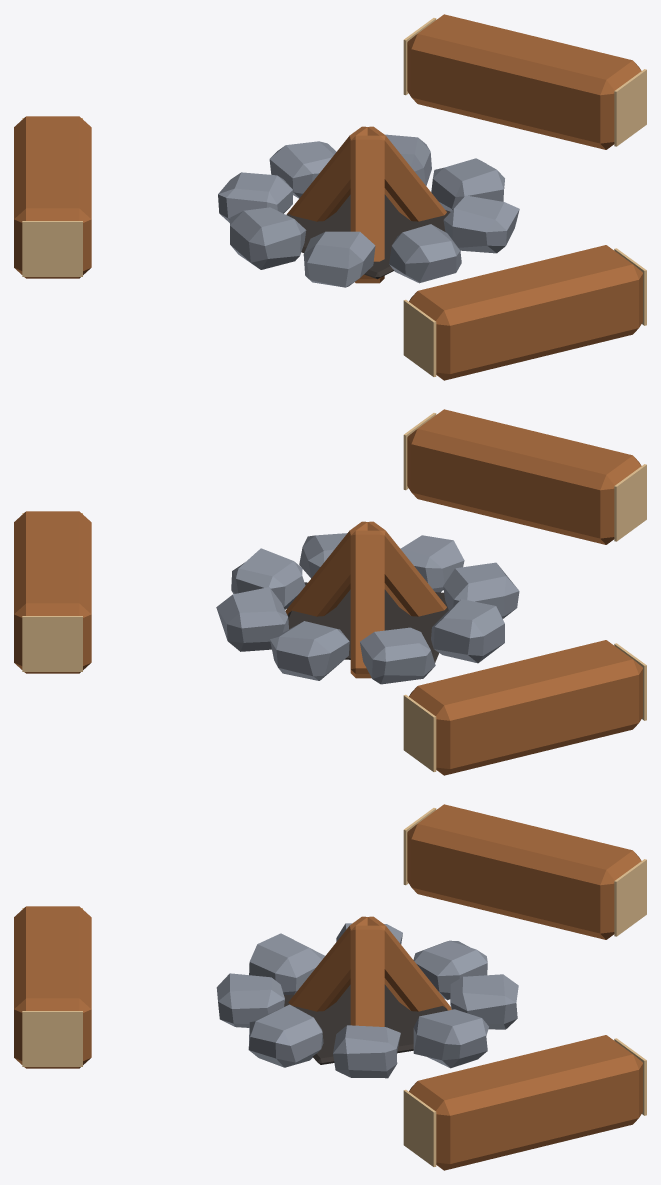
File: Campfire.fbx
3 renders of one model, top to bottom at view 1: azimuth 30°, elevation 25°; view 2: azimuth 150°, elevation 25°; view 3: azimuth 270°, elevation 25°, orthographic.
Visible parts, largest first — view 1: Stone, Seat_3, Seat_2, Log, Seat_1, Rings, Ash; view 2: Stone, Seat_2, Seat_1, Log, Seat_3, Rings, Ash; view 3: Stone, Seat_1, Seat_3, Seat_2, Log, Rings, Ash.
Part boxes in pixels (<box>): Stone: <box>218,134,519,287</box>; Seat_3: <box>407,14,641,149</box>; Seat_2: <box>409,245,642,380</box>; Log: <box>286,126,446,283</box>; Seat_1: <box>14,116,91,278</box>; Rings: <box>22,18,646,376</box>; Ash: <box>287,194,450,279</box>; Stone: <box>216,533,519,684</box>; Seat_2: <box>407,409,641,544</box>; Seat_1: <box>409,640,642,775</box>; Log: <box>285,521,446,678</box>; Seat_3: <box>14,511,91,673</box>; Rings: <box>22,413,646,771</box>; Ash: <box>287,582,448,662</box>; Stone: <box>216,923,518,1078</box>; Seat_1: <box>407,804,641,939</box>; Seat_3: <box>409,1035,642,1170</box>; Seat_2: <box>14,906,91,1068</box>; Log: <box>288,916,451,1026</box>; Rings: <box>22,808,646,1166</box>; Ash: <box>284,984,447,1064</box>.
Bounding box in the file's own units: 14.89 × 2.74 × 13.06.
